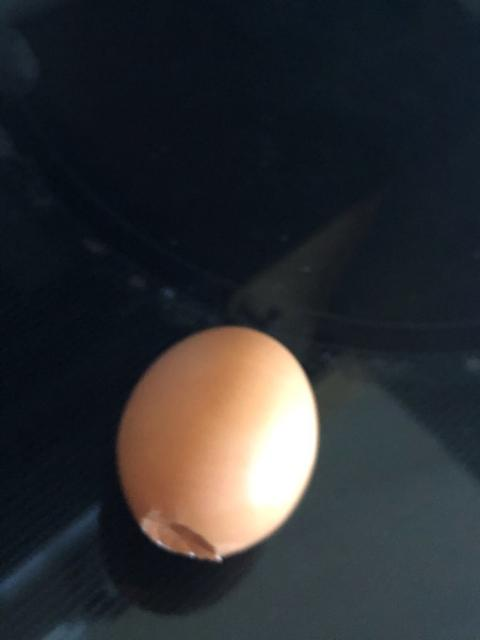Roto: (114, 323, 321, 563)
